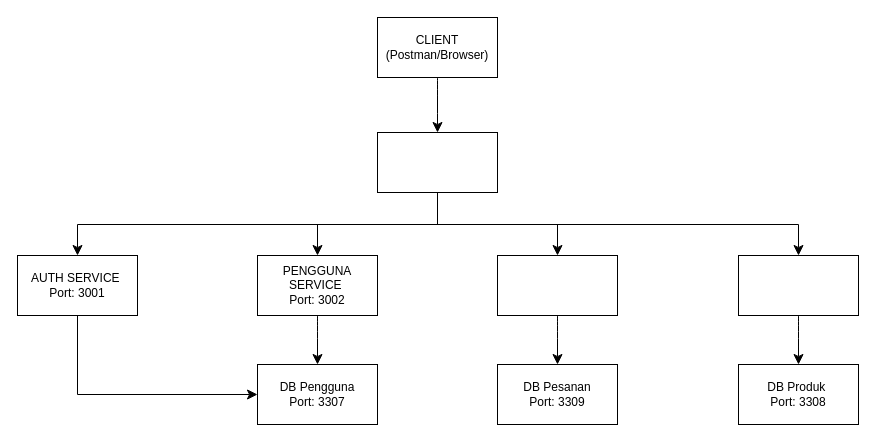
This 876x442 diagram has some shape labels left out. The centre of each missing label's shape, as x and y in pixels:
"API GATEWAY Port: 3000" goes at point (437, 162).
"PESANAN SERVICE Port: 3003" goes at point (557, 285).
"PRODUK SERVICE Port: 8000" goes at point (798, 285).
